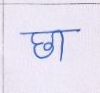aa_matra: (60, 33, 64, 62)
